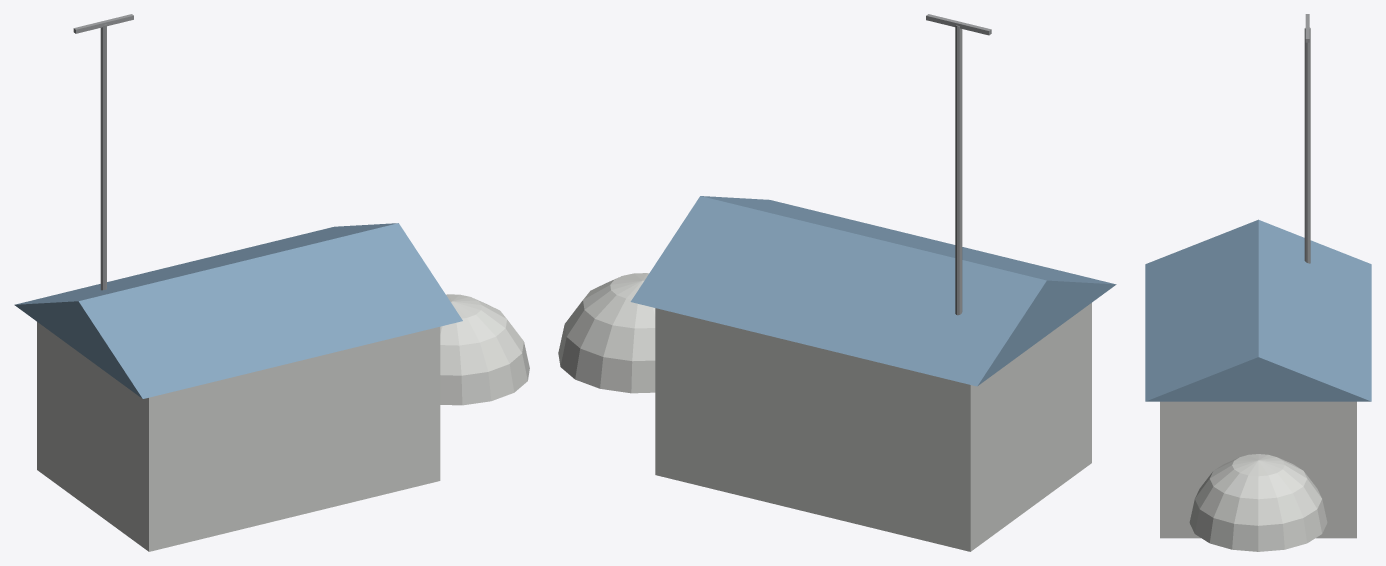
The model's file is Observatory.glb.
3 views of the same model, side by side, from view 1: azimuth 30°, elevation 25°; view 2: azimuth 150°, elevation 25°; view 3: azimuth 270°, elevation 25° (orthographic). The views are drawn at different scales.
Visible parts, largest first — view 1: Hut, Hut roof, Seismograph dome, Member.029; view 2: Hut, Hut roof, Seismograph dome, Member.029; view 3: Hut roof, Hut, Seismograph dome, Member.029.
Boxes of the visible parts, x1=… form: Hut: x1=37, y1=322, x2=440, y2=551; Hut roof: x1=14, y1=223, x2=462, y2=398; Seismograph dome: x1=440, y1=294, x2=529, y2=405; Member.029: x1=100, y1=24, x2=106, y2=290; Hut: x1=655, y1=303, x2=1091, y2=551; Hut roof: x1=630, y1=196, x2=1116, y2=386; Seismograph dome: x1=558, y1=273, x2=655, y2=393; Member.029: x1=955, y1=25, x2=962, y2=315; Hut roof: x1=1145, y1=219, x2=1371, y2=401; Hut: x1=1160, y1=401, x2=1356, y2=538; Seismograph dome: x1=1189, y1=454, x2=1327, y2=551; Member.029: x1=1304, y1=27, x2=1310, y2=263.
Bounding box in the file's own units: 9.1 × 9.04 × 4.6.
